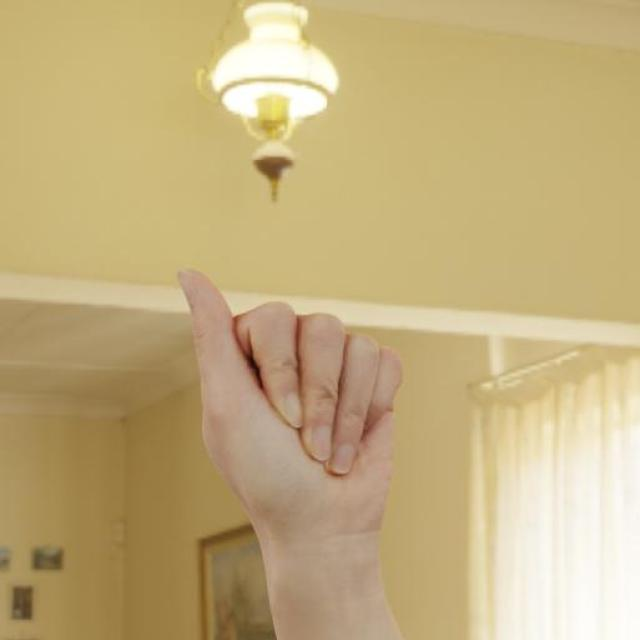A: (172, 264, 408, 540)
